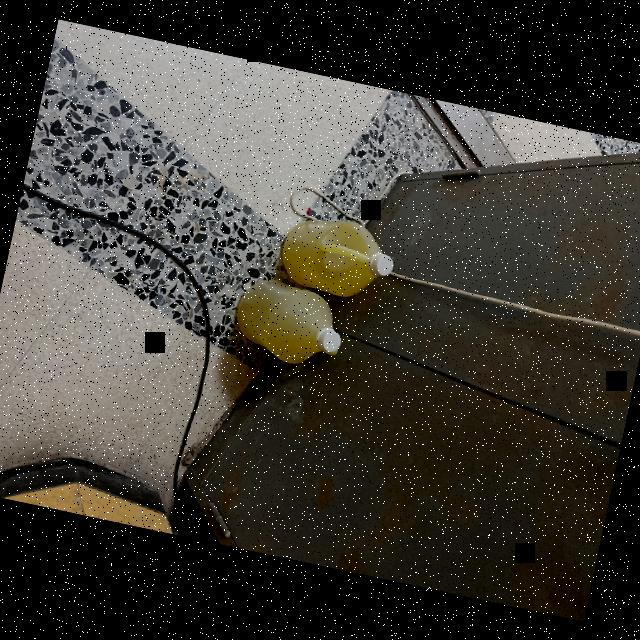chemical_plastic_gallon: (224, 269, 364, 386), (270, 207, 414, 309)
